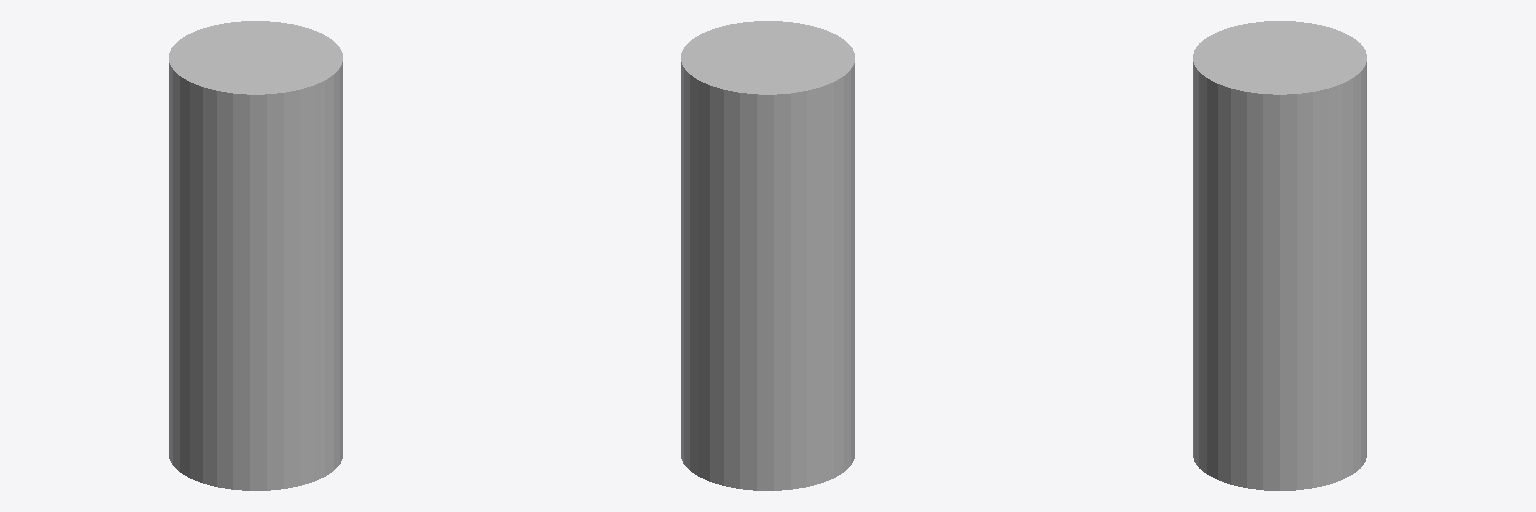
Rendered from birchlog.obj.
3 views of the same model, side by side, from view 1: azimuth 30°, elevation 25°; view 2: azimuth 150°, elevation 25°; view 3: azimuth 270°, elevation 25° (orthographic).
Parts seen in each view (by area): view 1: Cylinder; view 2: Cylinder; view 3: Cylinder.
Part boxes in pixels (x1,y1,x2,y2): Cylinder: (169,21,342,490); Cylinder: (681,21,854,490); Cylinder: (1193,21,1366,490).
Size of the model in its own units: 0.4 by 1 by 0.4.